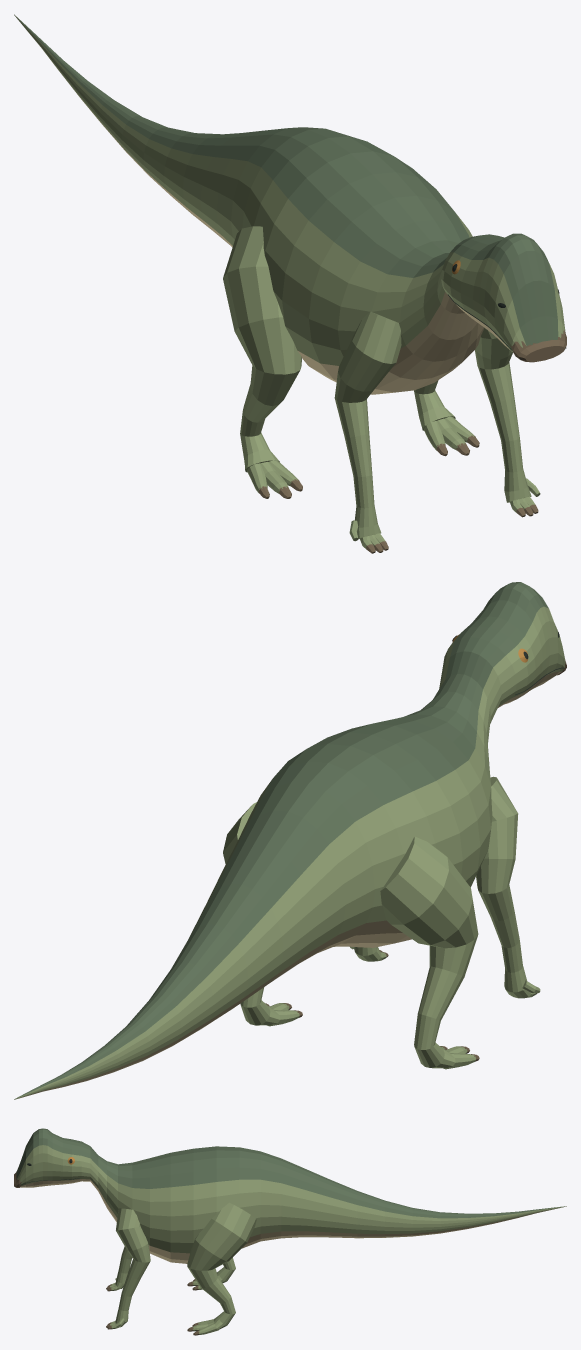
The picture shows the model from 3 angles, top to bottom: view 1: azimuth 30°, elevation 25°; view 2: azimuth 150°, elevation 25°; view 3: azimuth 270°, elevation 25°; orthographic projection. The views are drawn at different scales.
Parts seen in each view (by area): view 1: Axial_NasalArch_DeepHead_Neck_Trunk_Tail, Muscular_Hindlimbs_TridactylFeet, Short_Forelimbs_SupportHands, Beak_And_Unguals; view 2: Axial_NasalArch_DeepHead_Neck_Trunk_Tail, Muscular_Hindlimbs_TridactylFeet, Short_Forelimbs_SupportHands; view 3: Axial_NasalArch_DeepHead_Neck_Trunk_Tail, Muscular_Hindlimbs_TridactylFeet, Short_Forelimbs_SupportHands, Beak_And_Unguals.
Part boxes in pixels (x1=…): Axial_NasalArch_DeepHead_Neck_Trunk_Tail: x1=14, y1=14, x2=565, y2=394; Muscular_Hindlimbs_TridactylFeet: x1=223, y1=226, x2=475, y2=493; Short_Forelimbs_SupportHands: x1=334, y1=311, x2=540, y2=549; Beak_And_Unguals: x1=258, y1=330, x2=566, y2=553; Axial_NasalArch_DeepHead_Neck_Trunk_Tail: x1=14, y1=582, x2=565, y2=1099; Muscular_Hindlimbs_TridactylFeet: x1=223, y1=802, x2=478, y2=1069; Short_Forelimbs_SupportHands: x1=350, y1=776, x2=540, y2=998; Axial_NasalArch_DeepHead_Neck_Trunk_Tail: x1=16, y1=1128, x2=566, y2=1263; Muscular_Hindlimbs_TridactylFeet: x1=187, y1=1202, x2=256, y2=1334; Short_Forelimbs_SupportHands: x1=110, y1=1208, x2=150, y2=1329; Beak_And_Unguals: x1=14, y1=1172, x2=199, y2=1335.
Bounding box in the file's own units: 3 × 4.29 × 12.
